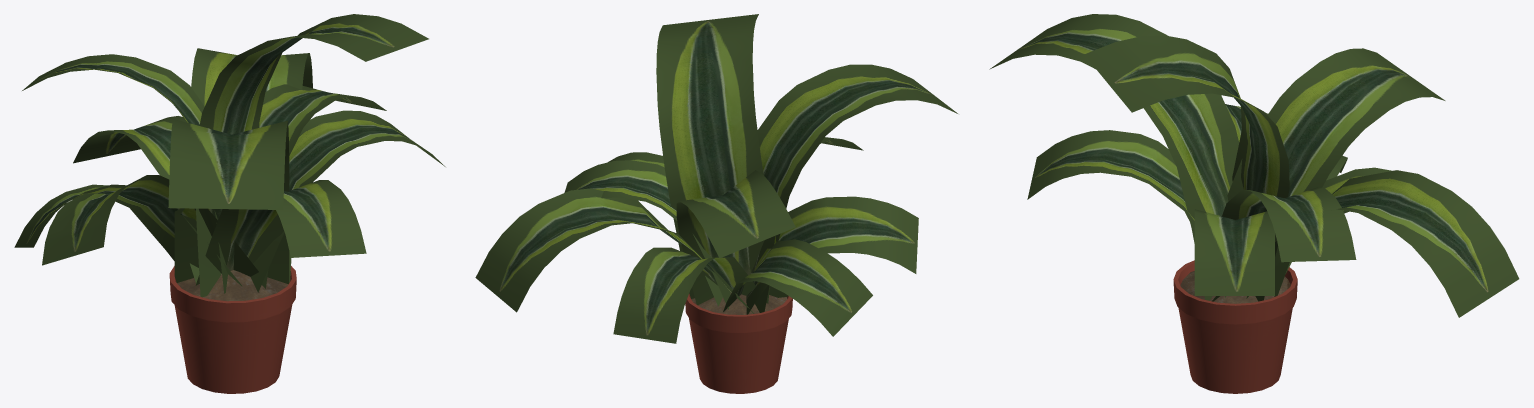
File: houseplantgltf.gltf
3 renders of one model, left to right at view 1: azimuth 30°, elevation 25°; view 2: azimuth 150°, elevation 25°; view 3: azimuth 270°, elevation 25°, orthographic. The views are drawn at different scales.
Visible parts, largest first — view 1: eb_house_plant_01; view 2: eb_house_plant_01; view 3: eb_house_plant_01.
Boxes of the visible parts, box(x1,y1,x2,y2) form: eb_house_plant_01: box(14, 14, 445, 393); eb_house_plant_01: box(475, 14, 957, 393); eb_house_plant_01: box(989, 14, 1519, 393).
Size of the model in its own units: 39.59 by 34.88 by 47.5.
1 material, 1 textured.
